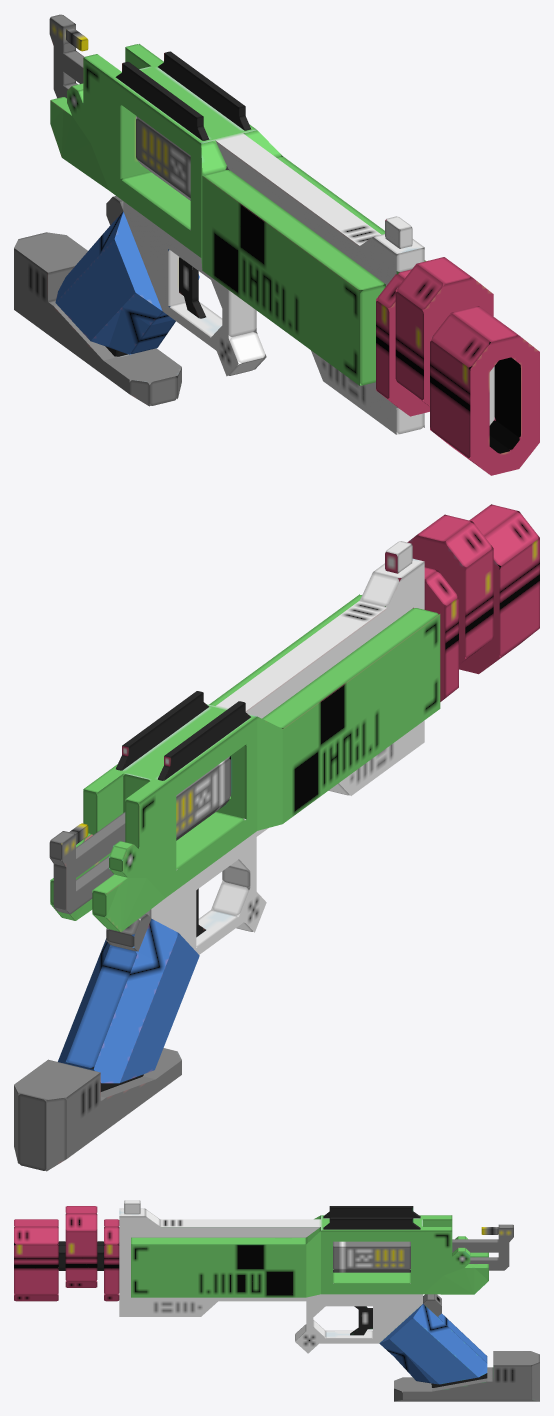
Rendered from RevolverMdl.obj.
The picture shows the model from 3 angles, top to bottom: view 1: azimuth 30°, elevation 25°; view 2: azimuth 150°, elevation 25°; view 3: azimuth 270°, elevation 25°; orthographic projection. The views are drawn at different scales.
Parts seen in each view (by area): view 1: Cube; view 2: Cube; view 3: Cube.
Boxes of the visible parts, x1,y1,x2,y2 form: Cube: [14, 14, 539, 475]; Cube: [14, 504, 539, 1171]; Cube: [14, 1200, 539, 1401].
Size of the model in its own units: 0.2204 by 0.925 by 2.25.
1 material, 1 textured.
